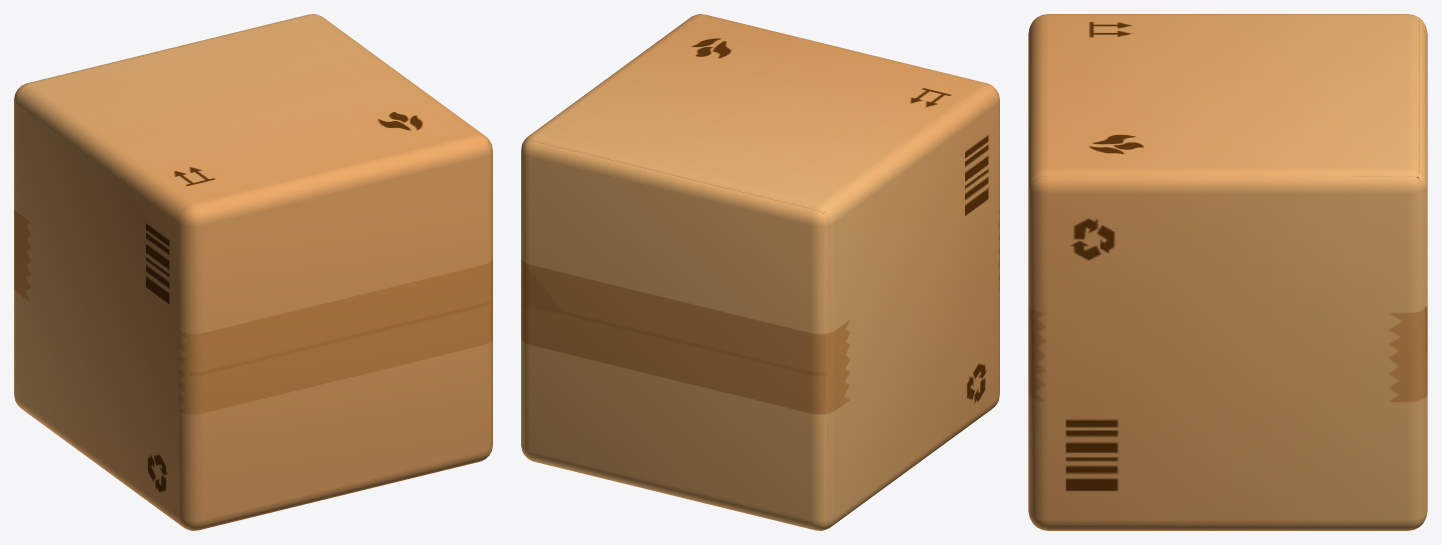
File: Block2.fbx
The picture shows the model from 3 angles, left to right: view 1: azimuth 30°, elevation 25°; view 2: azimuth 150°, elevation 25°; view 3: azimuth 270°, elevation 25°; orthographic projection. The views are drawn at different scales.
Visible parts, largest first — view 1: Cube; view 2: Cube; view 3: Cube.
Part boxes in pixels (box(x1,y1,x2,y2)): Cube: box(14, 14, 492, 530); Cube: box(521, 14, 999, 530); Cube: box(1028, 14, 1427, 530).
Bounding box in the file's own units: 1 × 1 × 1.
1 material, 1 textured.
